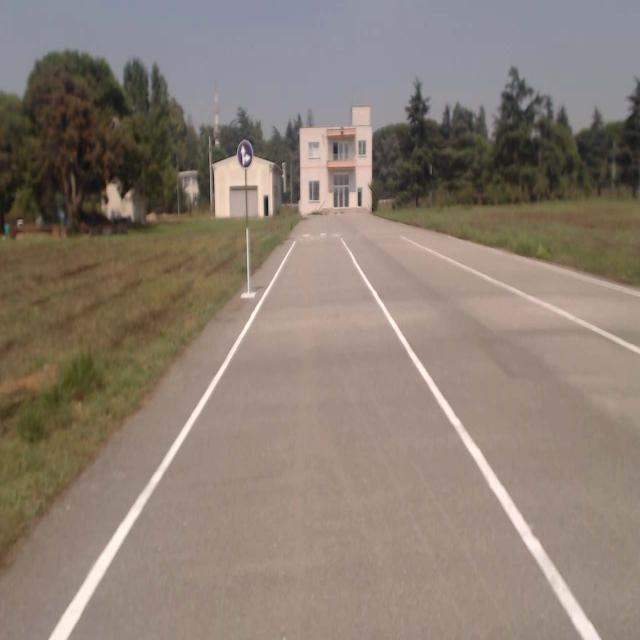ilerisag: (236, 140, 252, 168)
